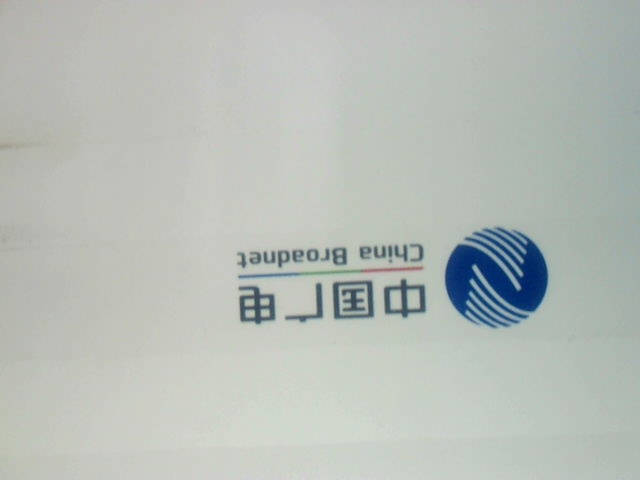AW_ChinaBroadNet: (227, 224, 557, 340)
